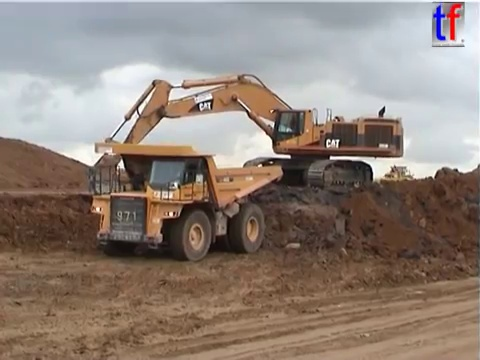excavator: (86, 70, 406, 201)
truck: (85, 139, 284, 262), (379, 163, 418, 188)
